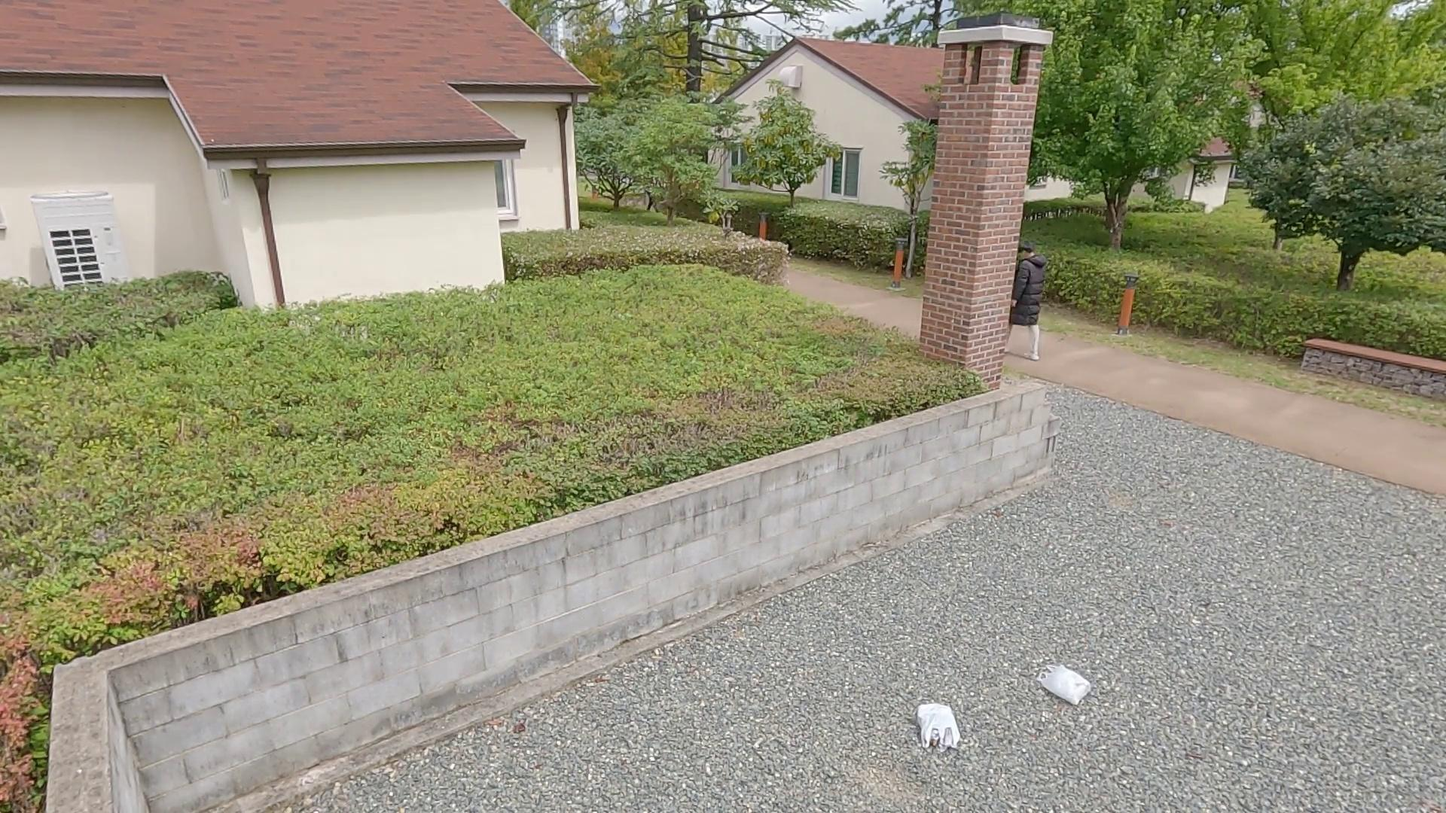person: (1005, 245, 1061, 362)
trash: (914, 690, 966, 758), (1034, 658, 1096, 707)
